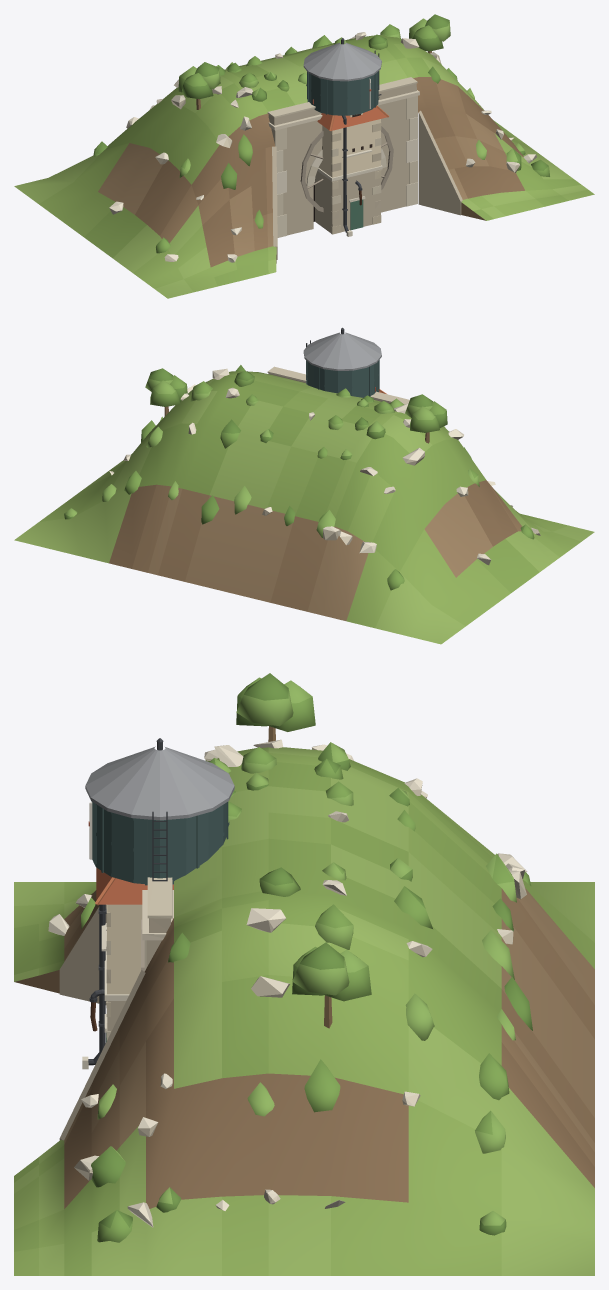
File: aubrune-ouvrages.glb
The picture shows the model from 3 angles, top to bottom: view 1: azimuth 30°, elevation 25°; view 2: azimuth 150°, elevation 25°; view 3: azimuth 270°, elevation 25°; orthographic projection. The views are drawn at different scales.
Parts seen in each view (by area): view 1: tunnel-portal, dovecote, water-tower, mill-wheel; view 2: tunnel-portal, water-tower; view 3: tunnel-portal, water-tower, dovecote.
Part boxes in pixels (<box>): tunnel-portal: <box>14,14,594,298</box>; dovecote: <box>315,105,389,234</box>; water-tower: <box>303,38,381,236</box>; mill-wheel: <box>300,126,393,212</box>; tunnel-portal: <box>14,365,594,644</box>; water-tower: <box>303,327,381,397</box>; tunnel-portal: <box>14,673,594,1275</box>; water-tower: <box>82,738,234,1069</box>; dovecote: <box>95,868,173,1042</box>.
Size of the model in its own units: 30 by 12.12 by 18.7.
